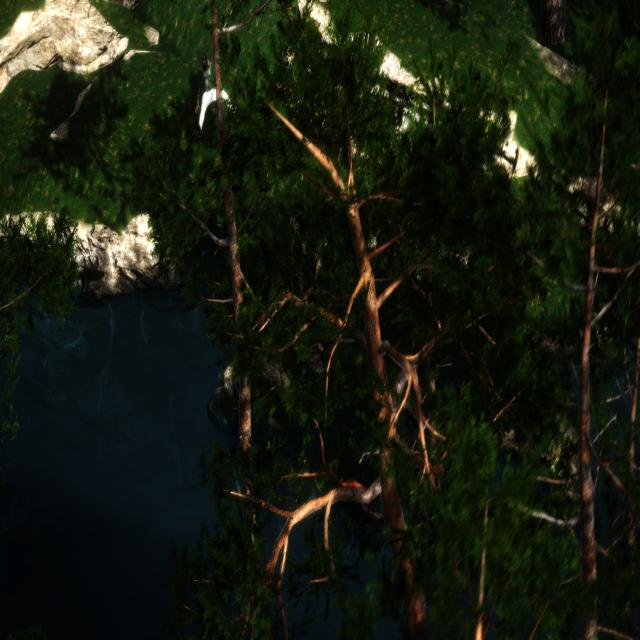Human: (190, 46, 244, 136)
